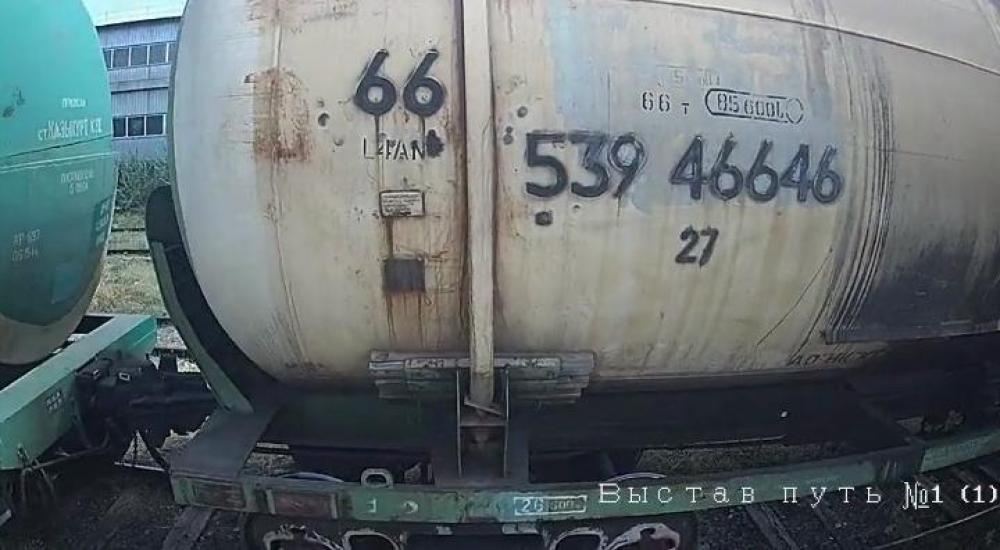Wagon-number: (520, 128, 852, 214)
